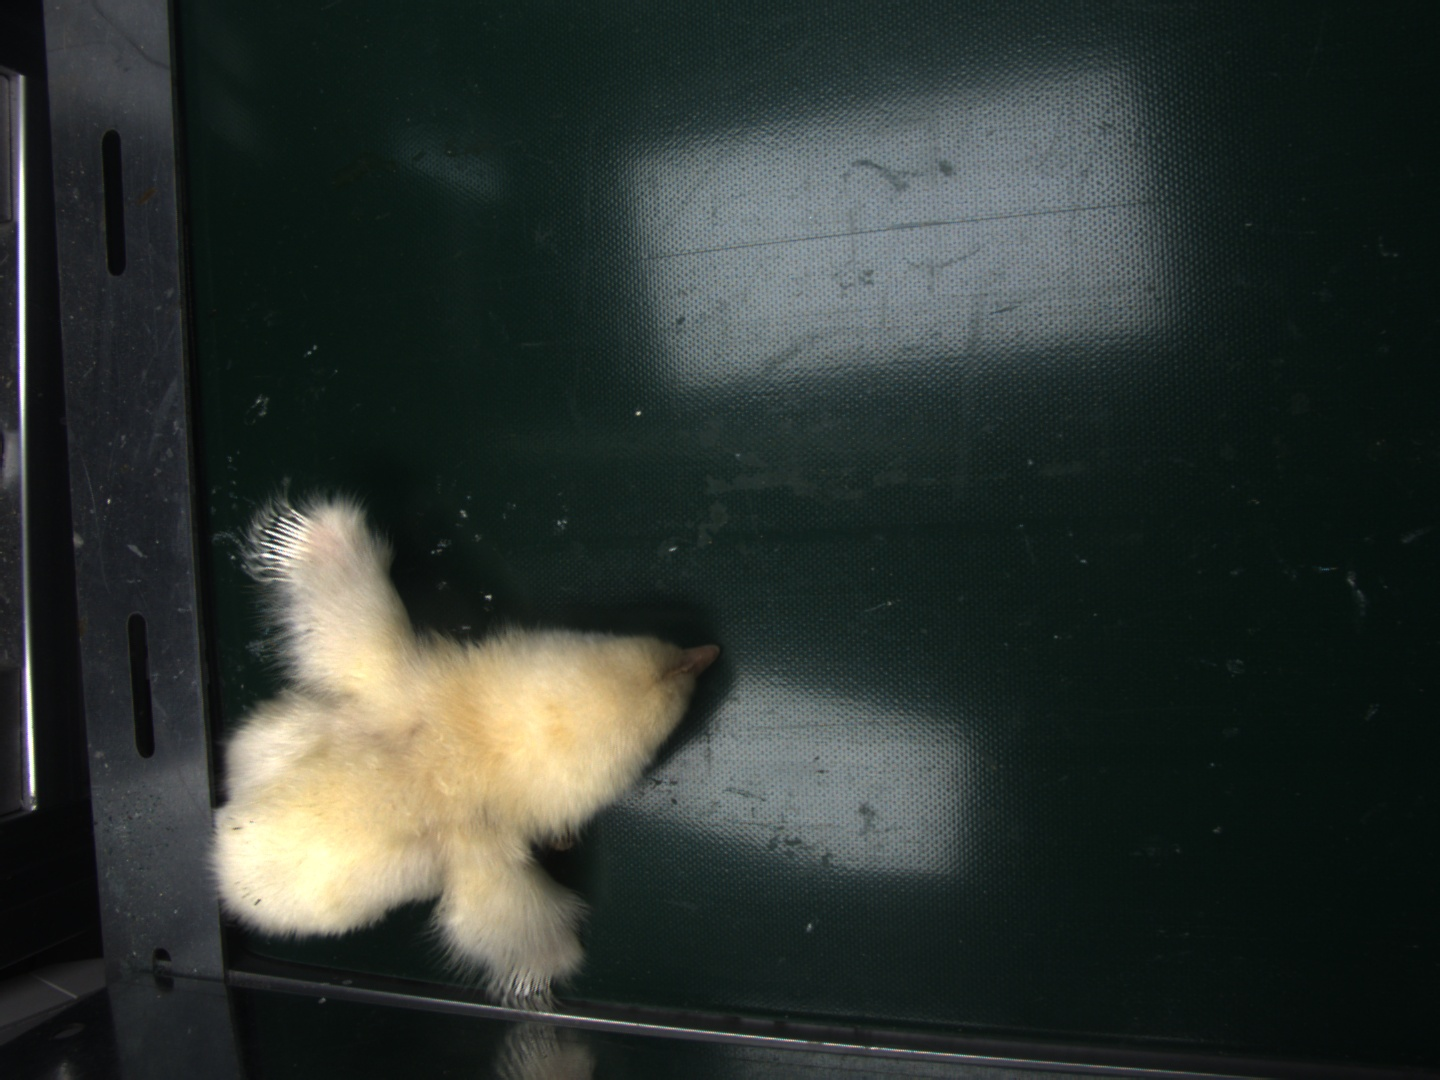male: (257, 511, 317, 582)
